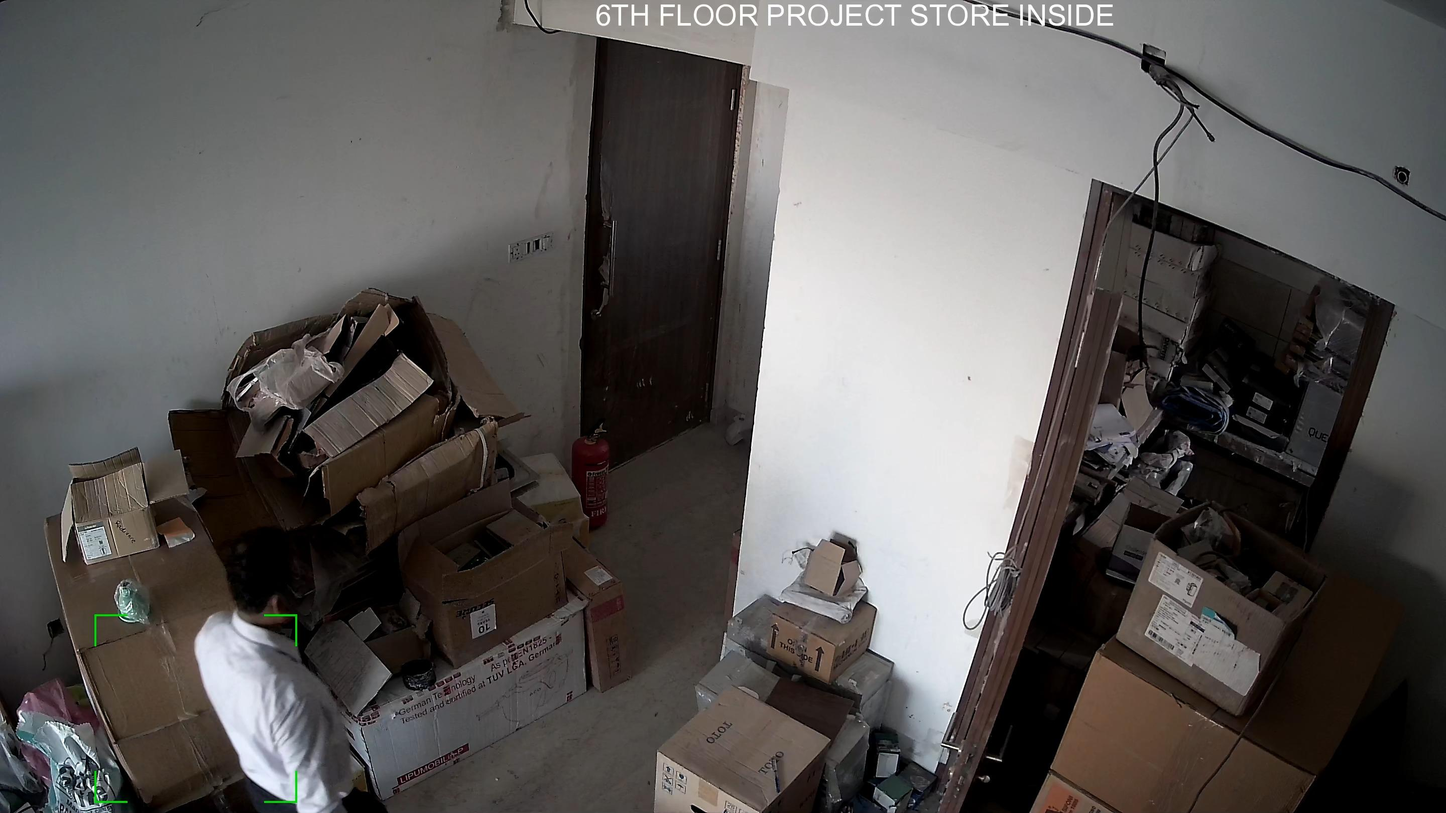Door-Close: (570, 31, 752, 490)
